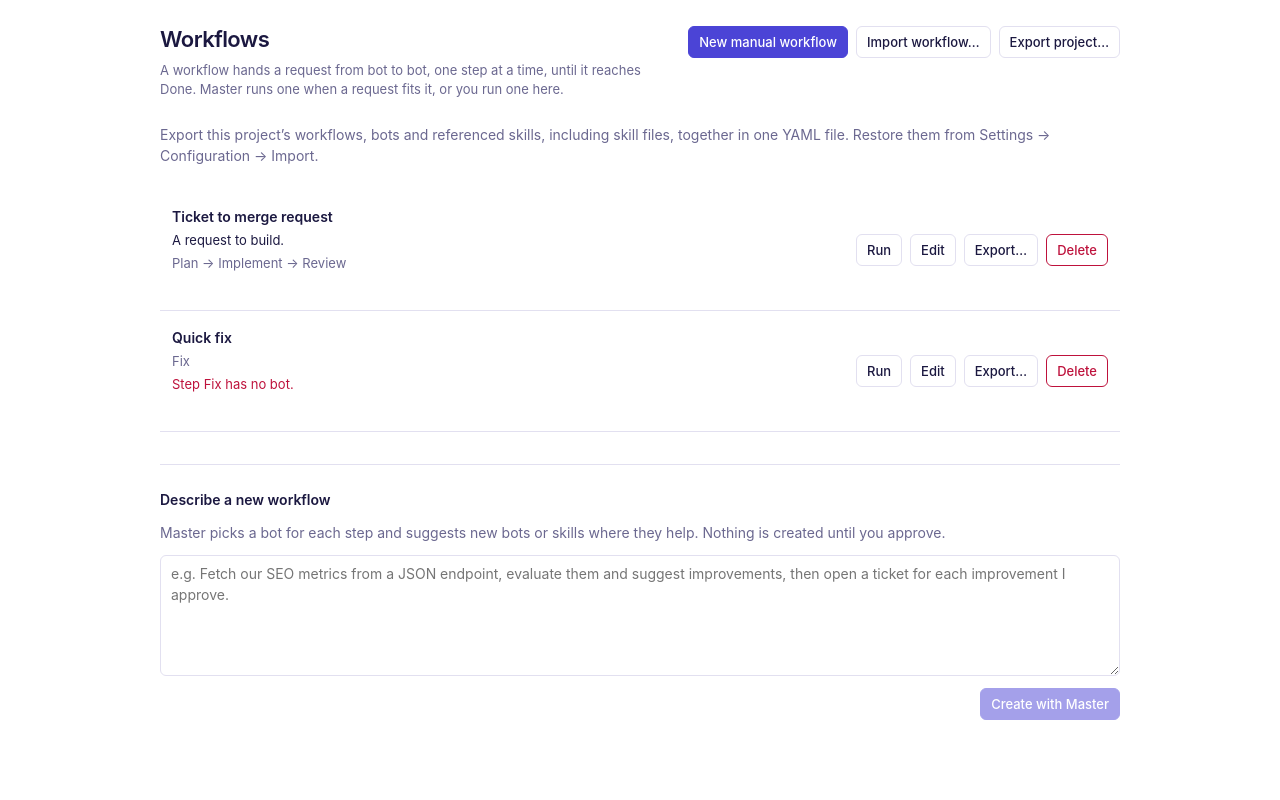
Test: the Workflows page › exports the full configuration from the toolbar and reports all saved items
Click the button "Export project…": (1059, 42) [998, 26, 1120, 58]
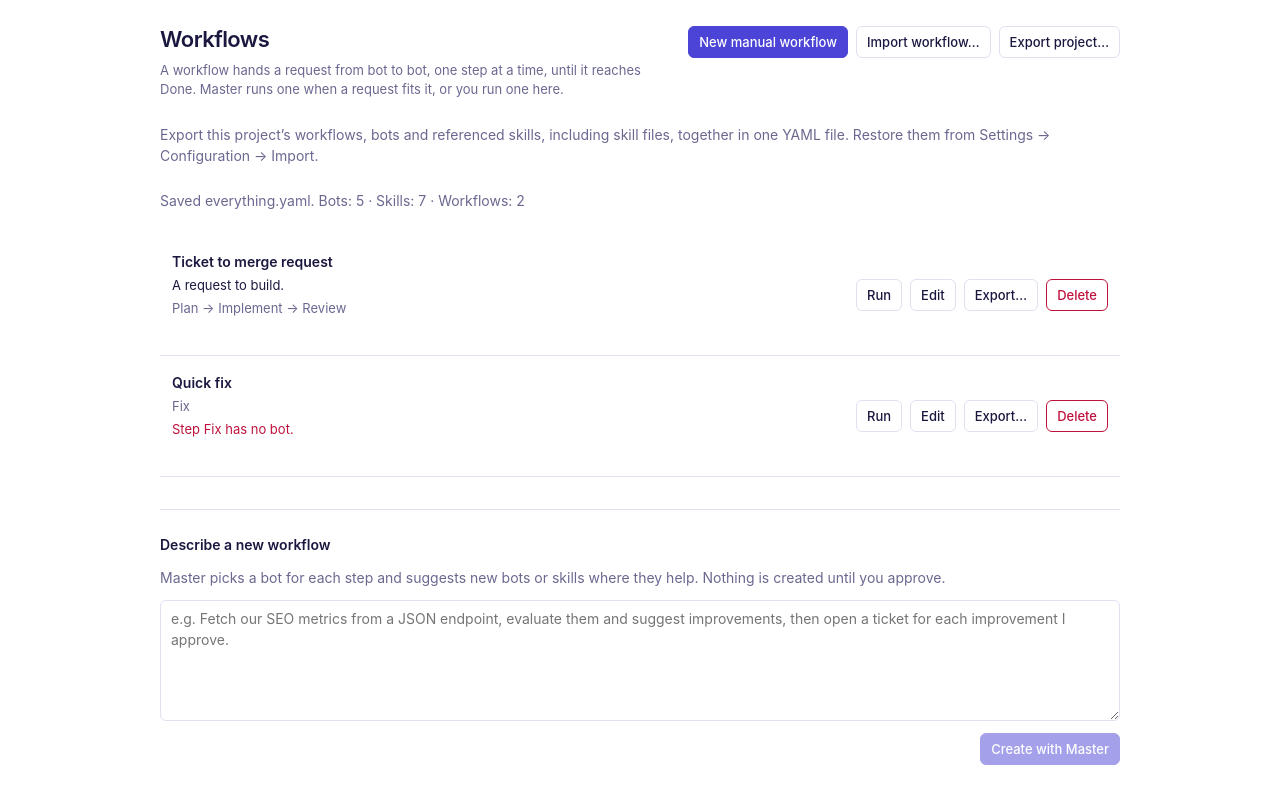
Result: the message "Saved everything.yaml. Bots: 5 · Skills: 7 · Workflows: 2" is shown at [160, 192, 525, 209]
